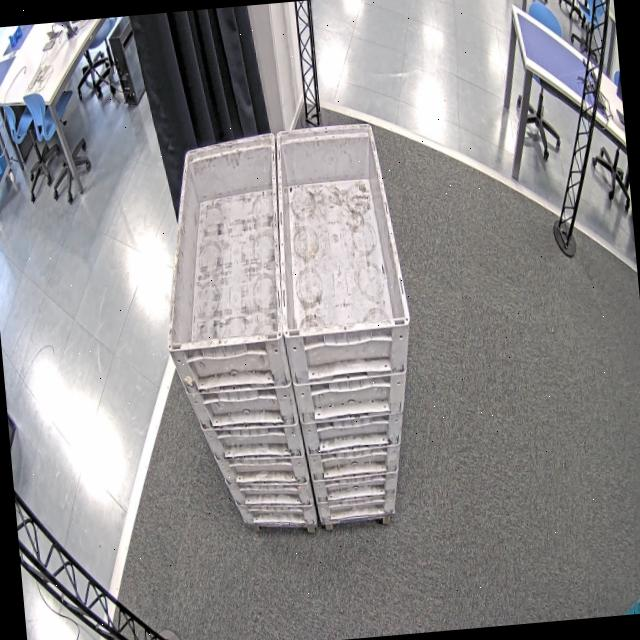Roll3G: (262, 117, 414, 340), (148, 128, 295, 356)
